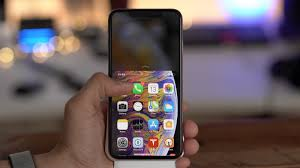iphone: (104, 5, 185, 162)
iphone10: (105, 6, 186, 163)
